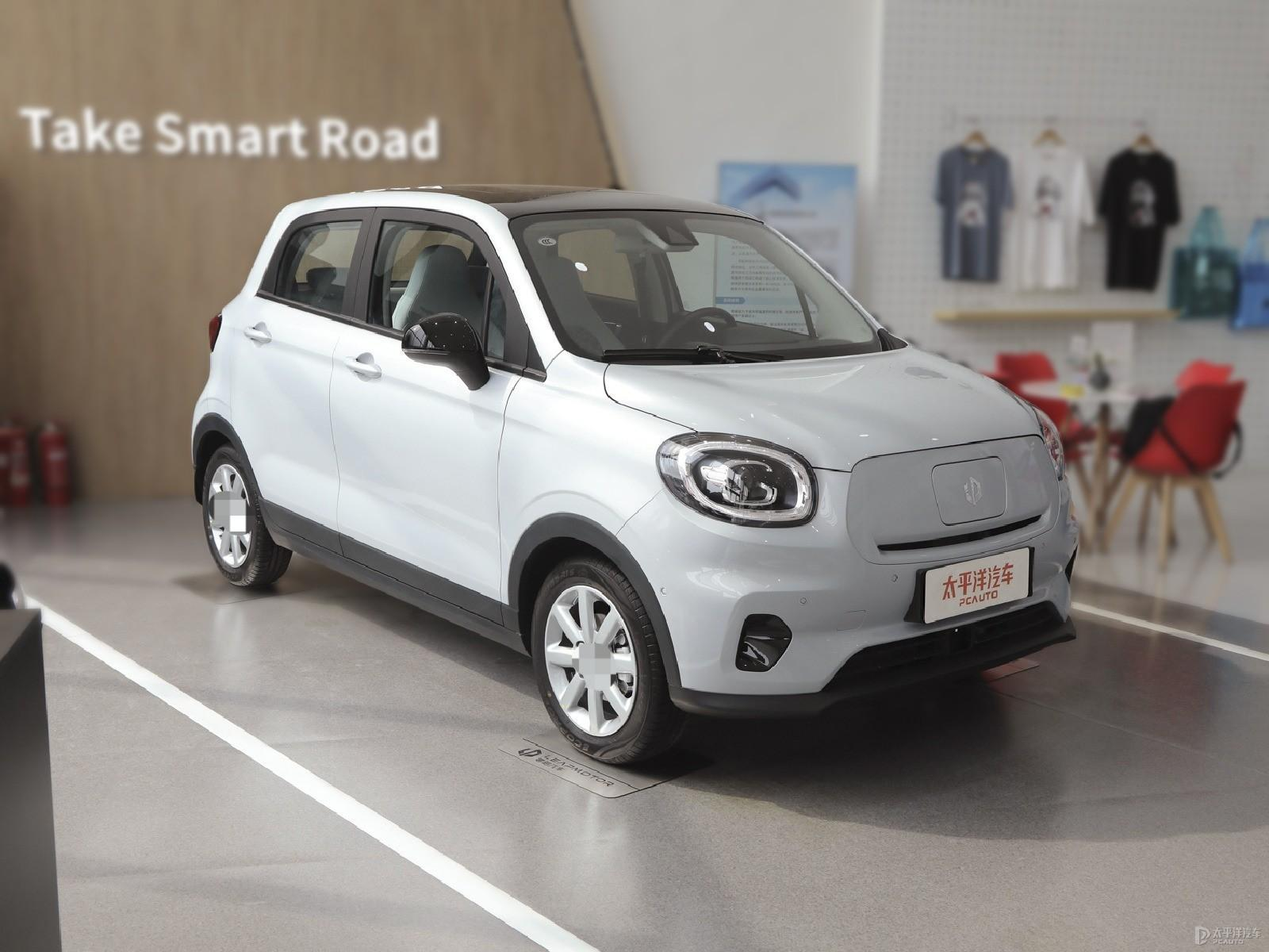LEAPMOTOR: (964, 475, 983, 507)
